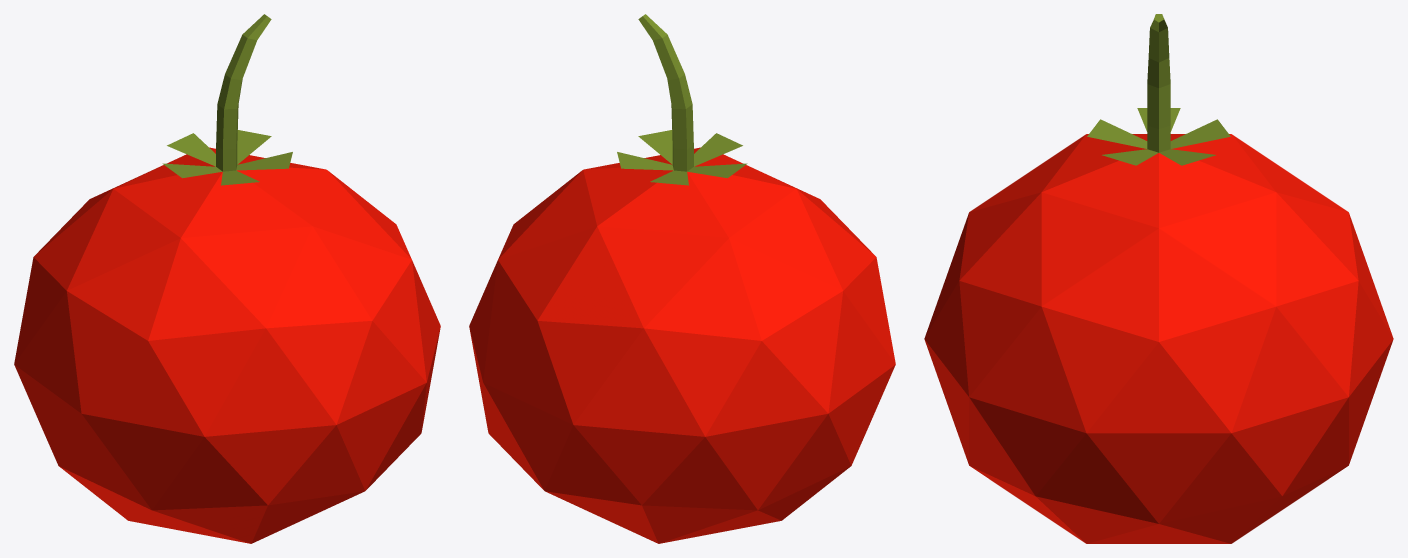
The model's file is tomato.fbx.
The picture shows the model from 3 angles, left to right: view 1: azimuth 30°, elevation 25°; view 2: azimuth 150°, elevation 25°; view 3: azimuth 270°, elevation 25°; orthographic projection. The views are drawn at different scales.
Visible parts, largest first — view 1: tomato; view 2: tomato; view 3: tomato.
Part boxes in pixels (x1,y1,x2,y2): tomato: [14, 14, 440, 543]; tomato: [469, 14, 895, 543]; tomato: [924, 14, 1393, 543].
Bounding box in the file's own units: 190 × 252 × 200.
